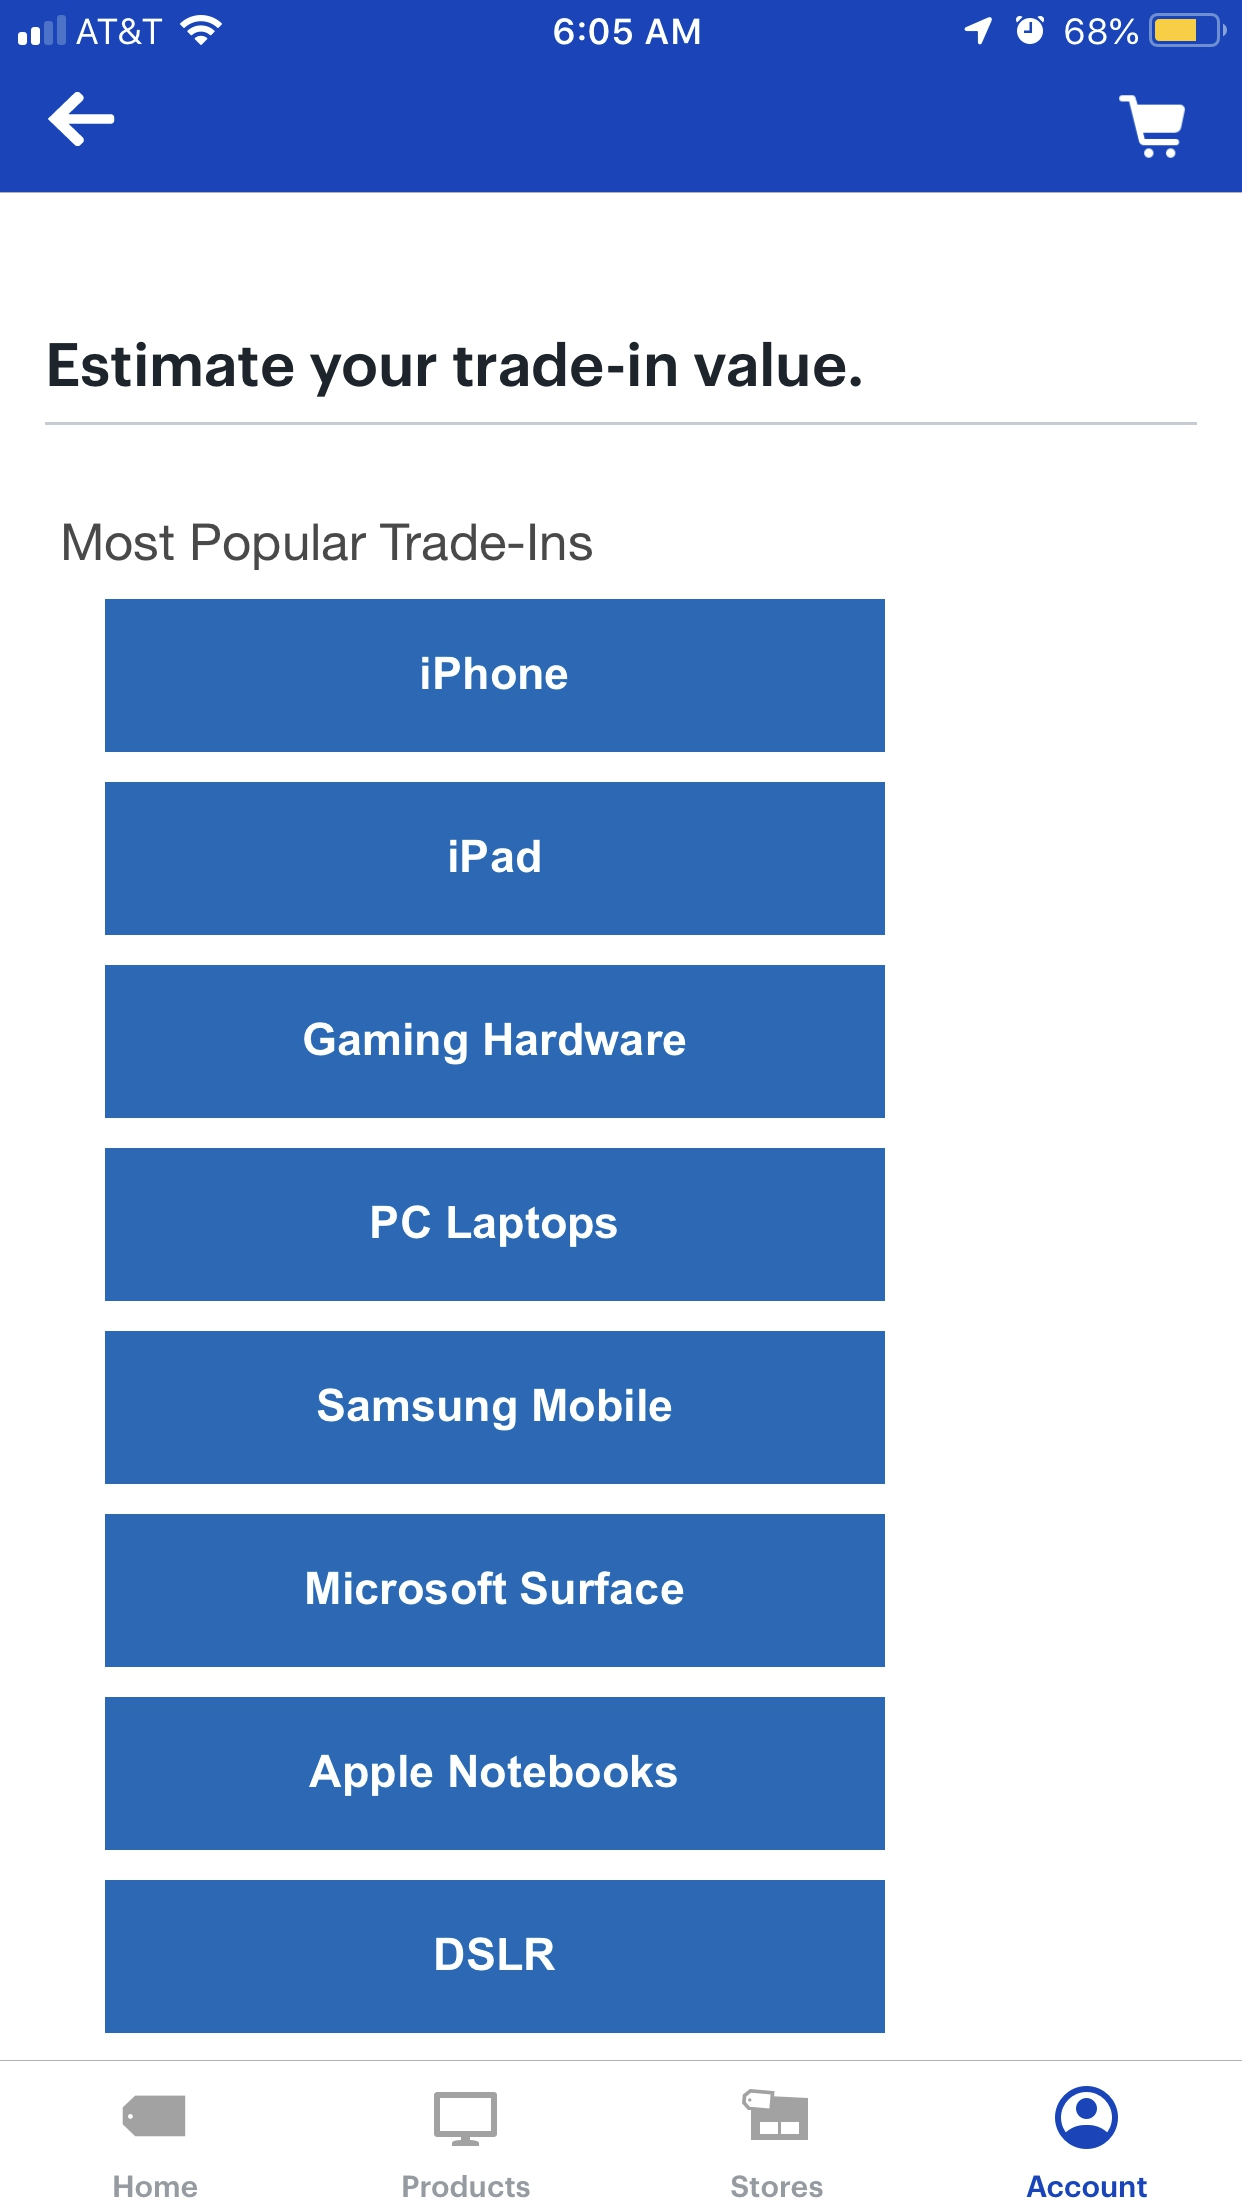Icon: (1118, 96, 1186, 161), (1055, 2087, 1119, 2150), (49, 93, 115, 149), (123, 2094, 187, 2137)
Image: (434, 2093, 497, 2147), (742, 2090, 808, 2141)
Text: (49, 341, 861, 397), (64, 523, 593, 572), (403, 2175, 531, 2197), (1027, 2175, 1148, 2197), (731, 2175, 823, 2197), (115, 2175, 199, 2197)
TextButton: (106, 1697, 886, 1852), (106, 1513, 886, 1668), (106, 1148, 886, 1303), (106, 964, 886, 1119), (106, 599, 886, 754), (105, 783, 886, 936), (106, 1880, 886, 2034), (106, 1331, 886, 1485)
UpperTaskBar: (2, 2, 1242, 49)
